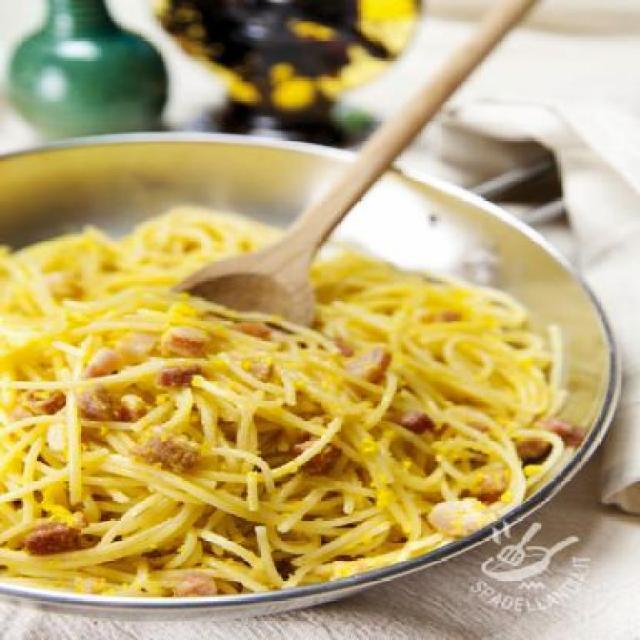Pasta with carbonara sauce: (7, 182, 556, 604)
